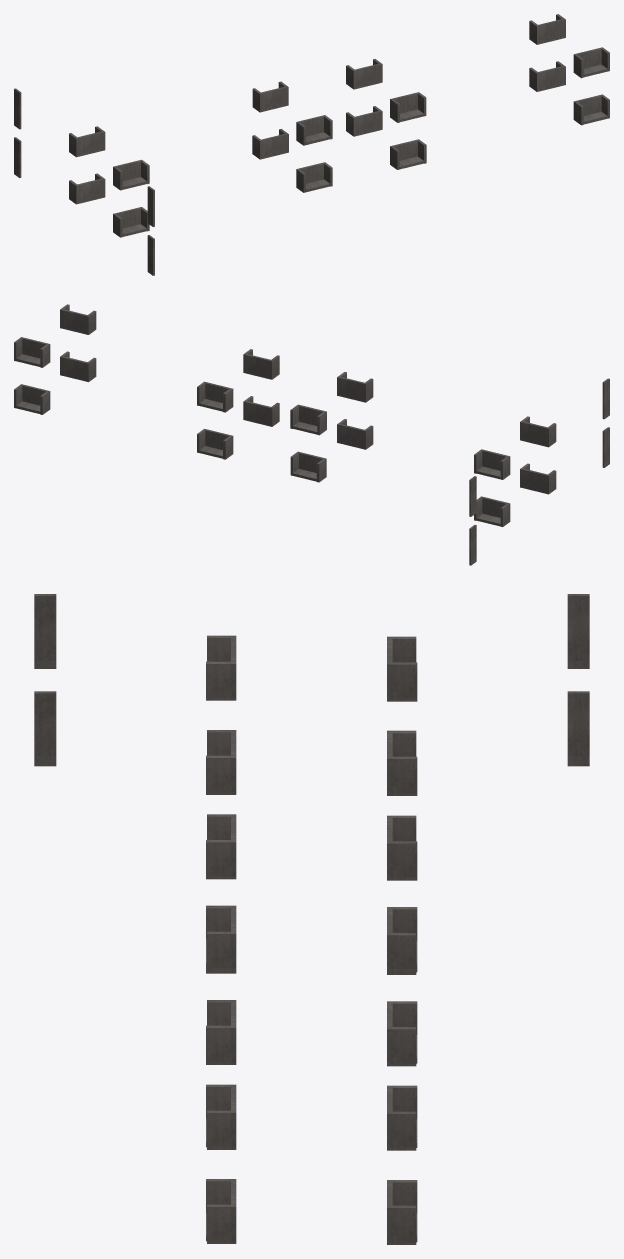
File: edificio esquina.fbx
The picture shows the model from 3 angles, top to bottom: view 1: azimuth 30°, elevation 25°; view 2: azimuth 150°, elevation 25°; view 3: azimuth 270°, elevation 25°; orthographic projection. The views are drawn at different scales.
Visible parts, largest first — view 1: BALCONES004, BALCONES003; view 2: BALCONES003, BALCONES004; view 3: BALCONES003, BALCONES004.
Part boxes in pixels (x1,y1,x2,y2): BALCONES004: [113, 47, 609, 275]; BALCONES003: [14, 14, 565, 204]; BALCONES003: [14, 337, 510, 565]; BALCONES004: [60, 304, 609, 494]; BALCONES003: [387, 594, 589, 1244]; BALCONES004: [34, 594, 236, 1243].
Size of the model in its own units: 31.21 by 5.08 by 15.
Materials: 1 (1 with a texture image).
